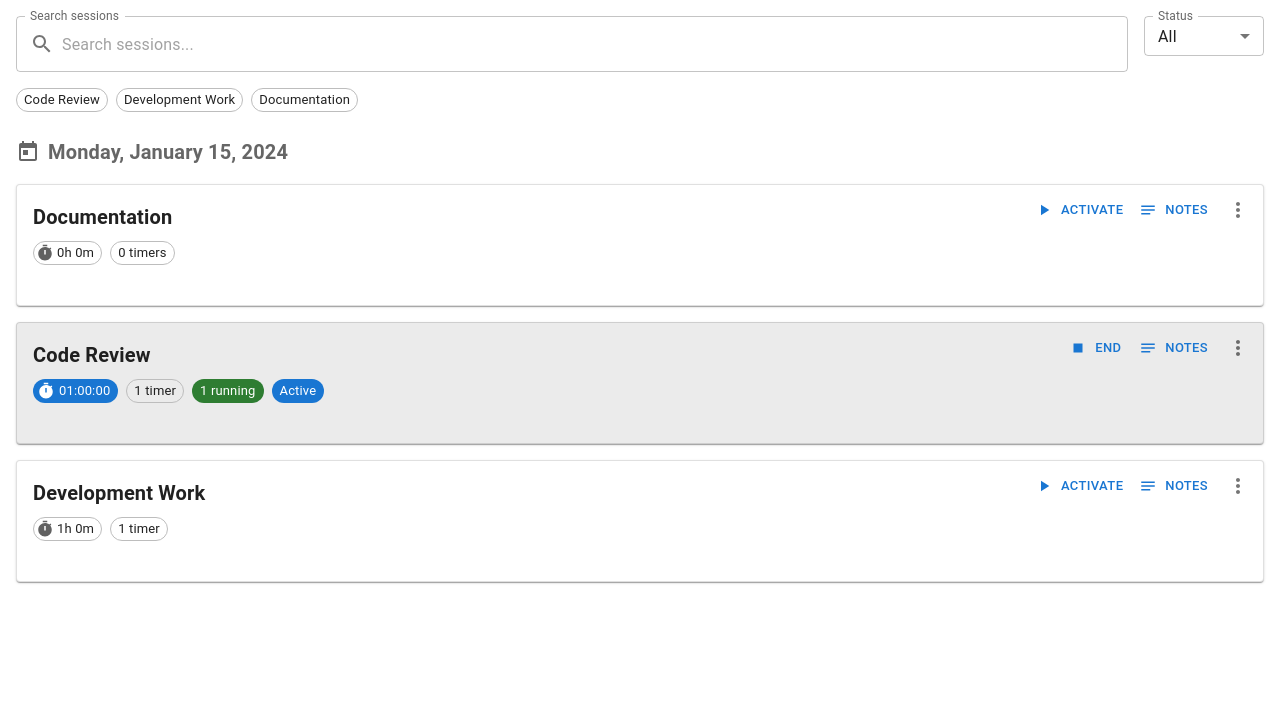
Test: SessionList › User Interactions › should open context menu when more button is clicked
What coordinates should you click on to do the following:
click the 1st button named "More options"
I would click on:
 (1238, 210)
Its box is [1221,193,1255,227].
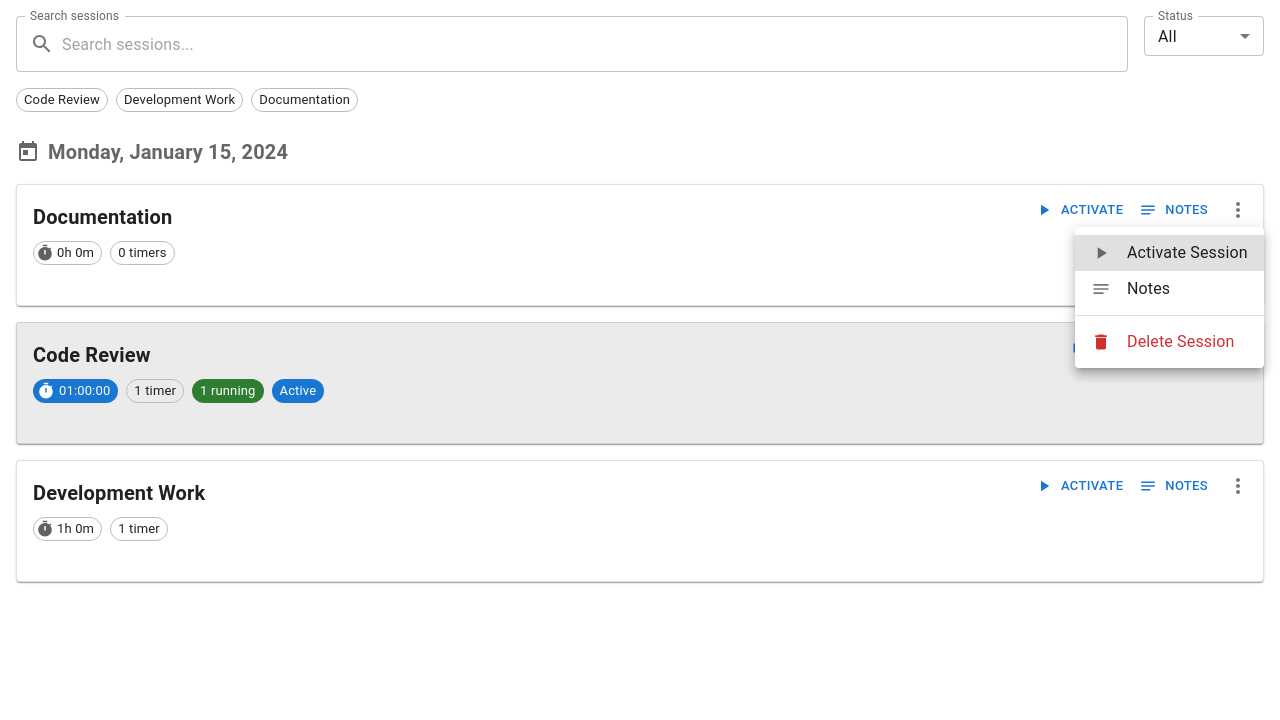
Check: the text "Activate Session" is shown, box [1127,241,1248,265]
Check: the text "Delete Session" is shown, box [1127,330,1248,354]
Check: the menu item "Notes" is shown, box [1091,279,1170,299]
